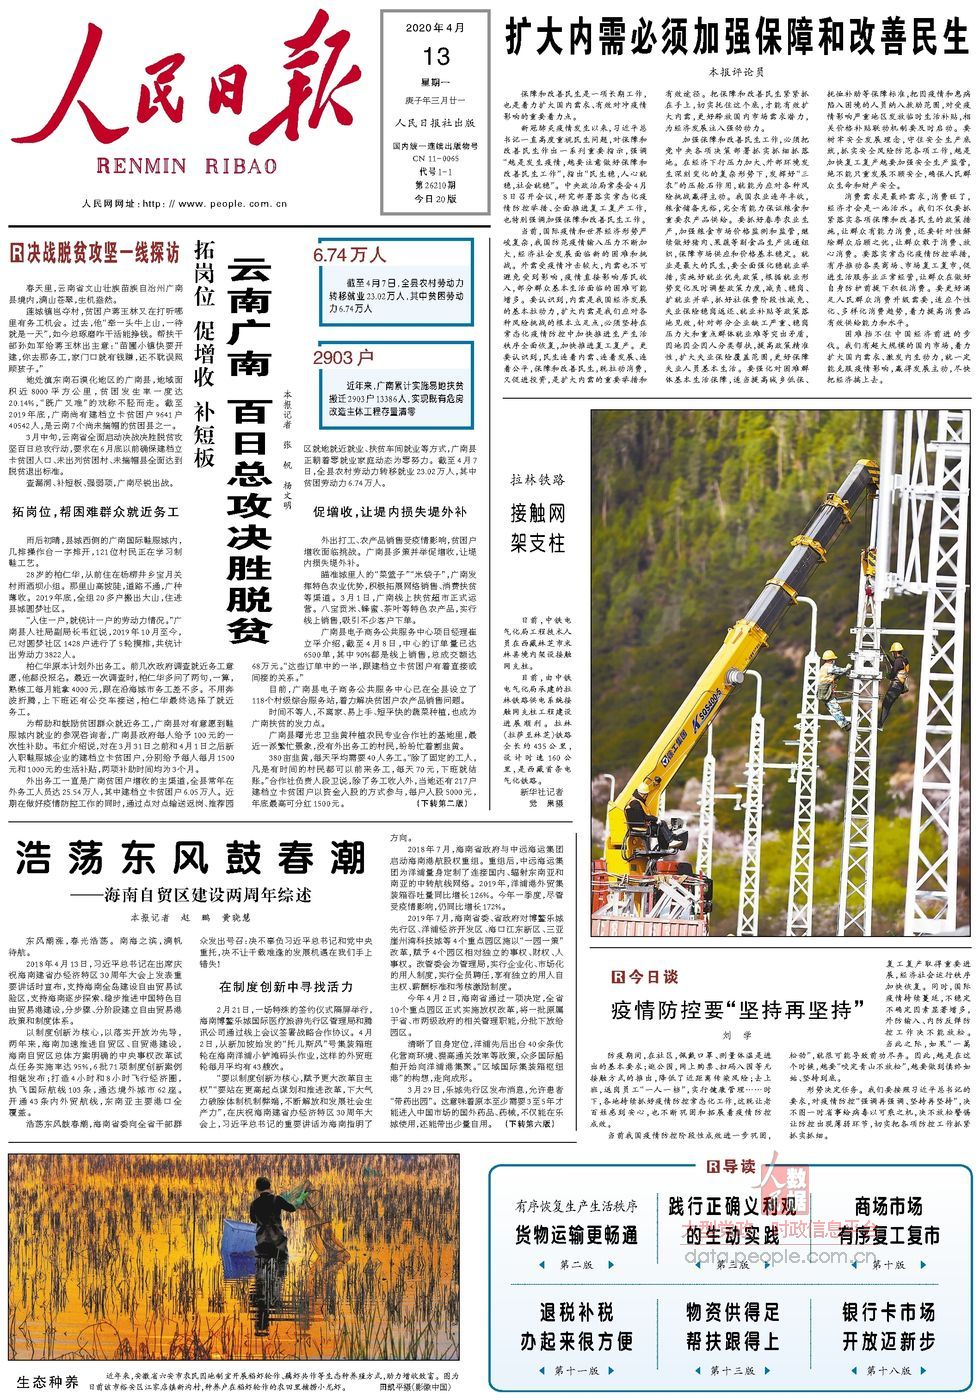pic: (586, 406, 977, 944), (3, 1148, 467, 1366)
